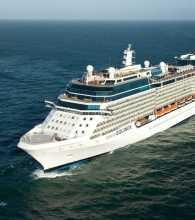youlun: (8, 47, 195, 171)
